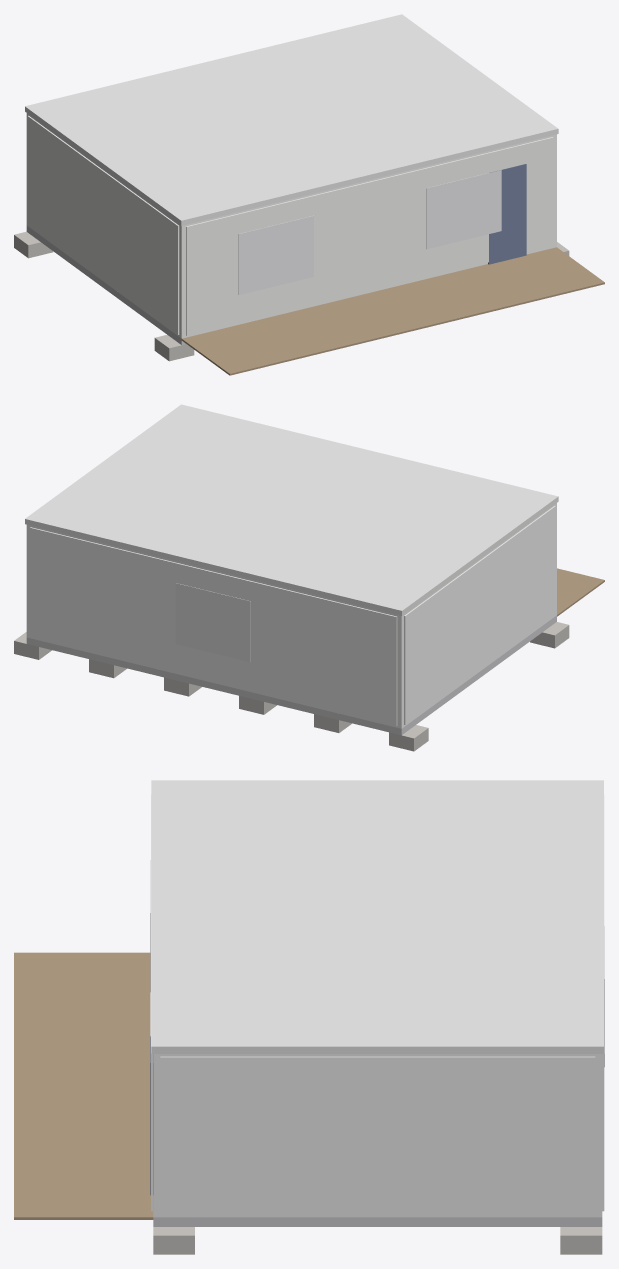
File: Studio-30-Premium+TerraceDeck-LOD0.glb
3 renders of one model, top to bottom at view 1: azimuth 30°, elevation 25°; view 2: azimuth 150°, elevation 25°; view 3: azimuth 270°, elevation 25°, orthographic. The views are drawn at different scales.
Visible parts, largest first — view 1: RoofMain, ExteriorPanelsPremium, TerraceDeck, WindowsLargeUpgrade, ExteriorShell, EntryDoor, FoundationBlocks, BaseFrame; view 2: RoofMain, ExteriorPanelsPremium, WindowsLargeUpgrade, BaseFrame, FoundationBlocks, ExteriorShell, TerraceDeck; view 3: RoofMain, ExteriorPanelsPremium, TerraceDeck, ExteriorShell, BaseFrame, FoundationBlocks.
Boxes of the visible parts, x1=… form: RoofMain: x1=25, y1=14, x2=558, y2=225; ExteriorPanelsPremium: x1=27, y1=115, x2=553, y2=335; TerraceDeck: x1=181, y1=247, x2=604, y2=375; WindowsLargeUpgrade: x1=238, y1=170, x2=501, y2=294; ExteriorShell: x1=26, y1=113, x2=556, y2=338; EntryDoor: x1=488, y1=164, x2=526, y2=264; FoundationBlocks: x1=14, y1=231, x2=569, y2=361; BaseFrame: x1=26, y1=225, x2=185, y2=344; RoofMain: x1=25, y1=404, x2=558, y2=615; ExteriorPanelsPremium: x1=30, y1=506, x2=555, y2=726; WindowsLargeUpgrade: x1=175, y1=583, x2=250, y2=662; BaseFrame: x1=26, y1=615, x2=556, y2=735; FoundationBlocks: x1=14, y1=622, x2=569, y2=751; ExteriorShell: x1=26, y1=503, x2=556, y2=728; TerraceDeck: x1=557, y1=568, x2=604, y2=616; RoofMain: x1=151, y1=780, x2=603, y2=1053; ExteriorPanelsPremium: x1=151, y1=795, x2=604, y2=1215; TerraceDeck: x1=14, y1=952, x2=153, y2=1219; ExteriorShell: x1=153, y1=1054, x2=602, y2=1217; BaseFrame: x1=153, y1=1217, x2=602, y2=1226; FoundationBlocks: x1=153, y1=1227, x2=602, y2=1254.
Size of the model in its own units: 9.6 by 3.17 by 8.49.
